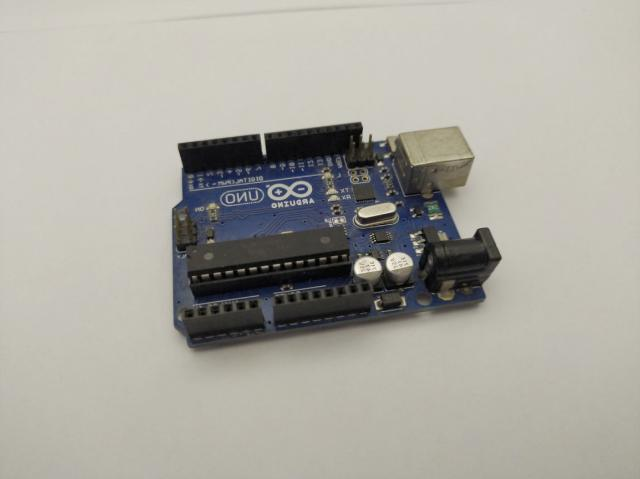arduino: (172, 122, 500, 348)
